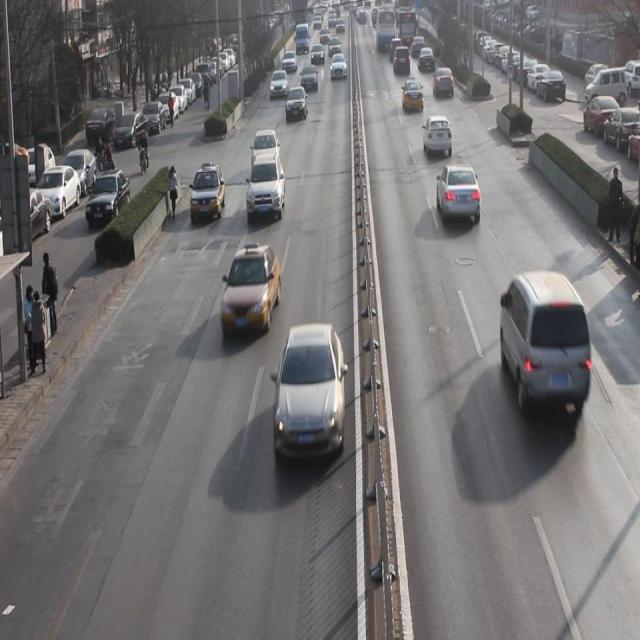car: (275, 323, 346, 458), (223, 244, 281, 336), (436, 162, 482, 230), (246, 155, 286, 222), (189, 164, 226, 219), (423, 116, 452, 158), (252, 128, 278, 172), (402, 79, 425, 114), (286, 85, 308, 120), (432, 66, 455, 96)
truck: (500, 270, 592, 421)
